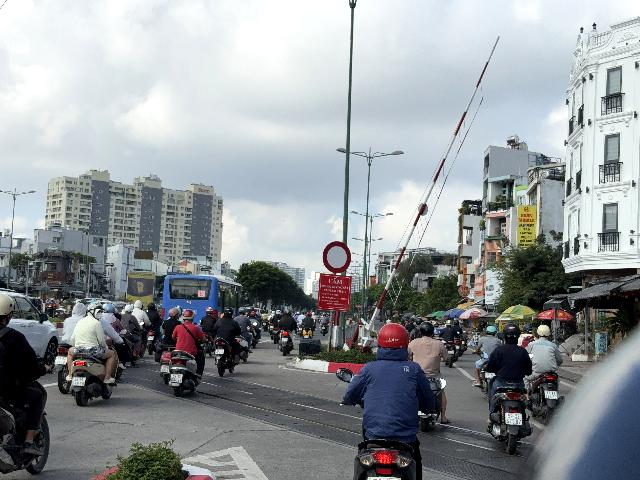duong-cam: (323, 241, 351, 273)
